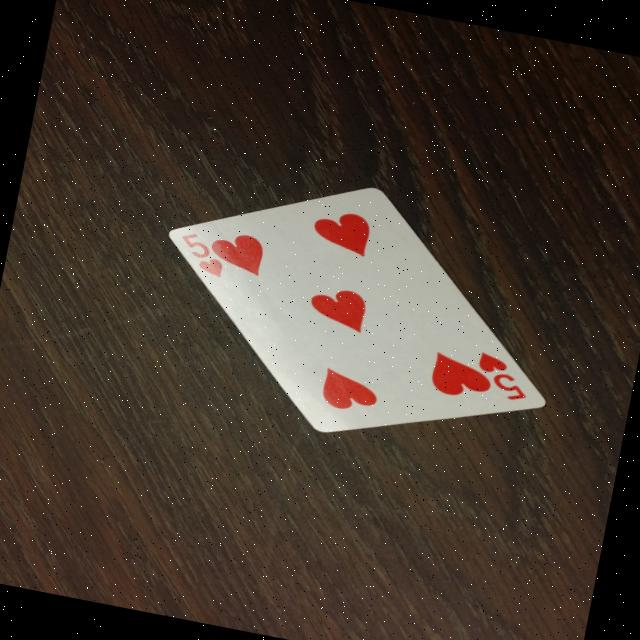5h: (463, 346, 553, 413), (168, 226, 246, 283)
